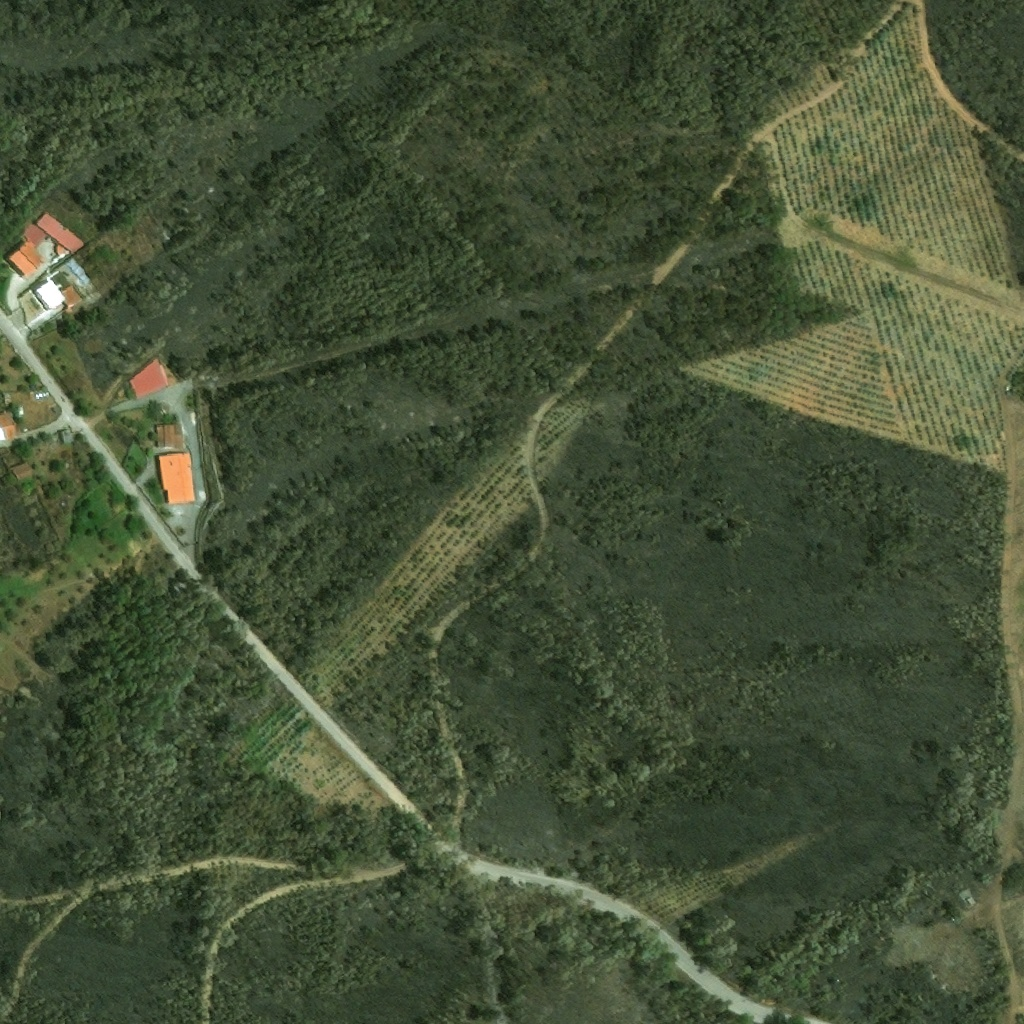0 no-damage: (37, 212, 86, 257), (159, 453, 196, 504), (129, 356, 171, 397), (36, 270, 68, 311), (66, 257, 97, 290), (8, 248, 37, 277), (18, 239, 47, 268), (156, 424, 185, 450), (0, 412, 20, 440), (62, 285, 84, 309), (10, 460, 35, 481), (25, 224, 47, 247), (61, 427, 76, 446), (56, 245, 71, 261), (16, 407, 26, 418), (65, 306, 72, 314)
